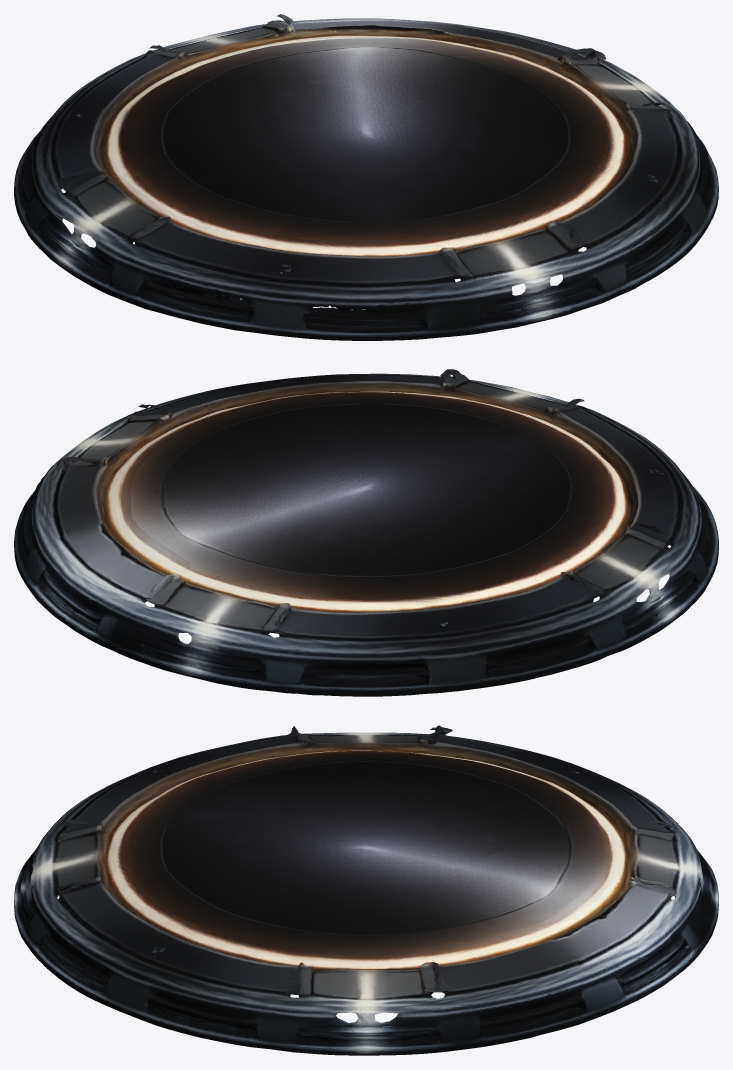
The picture shows the model from 3 angles, top to bottom: view 1: azimuth 30°, elevation 25°; view 2: azimuth 150°, elevation 25°; view 3: azimuth 270°, elevation 25°; orthographic projection.
Parts seen in each view (by area): view 1: world; view 2: world; view 3: world.
Boxes of the visible parts, x1,y1,x2,y2 form: world: (14,14,718,340); world: (14,369,718,696); world: (14,725,718,1055).
Bounding box in the file's own units: 1 × 0.0955 × 1.
Materials: 1 (1 with a texture image).
